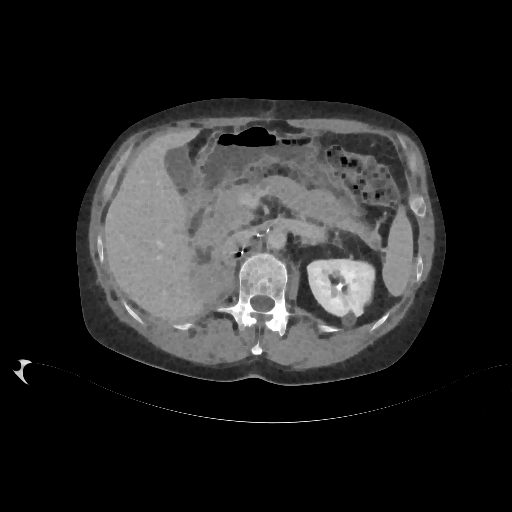Lesion: (337, 309, 360, 326)
